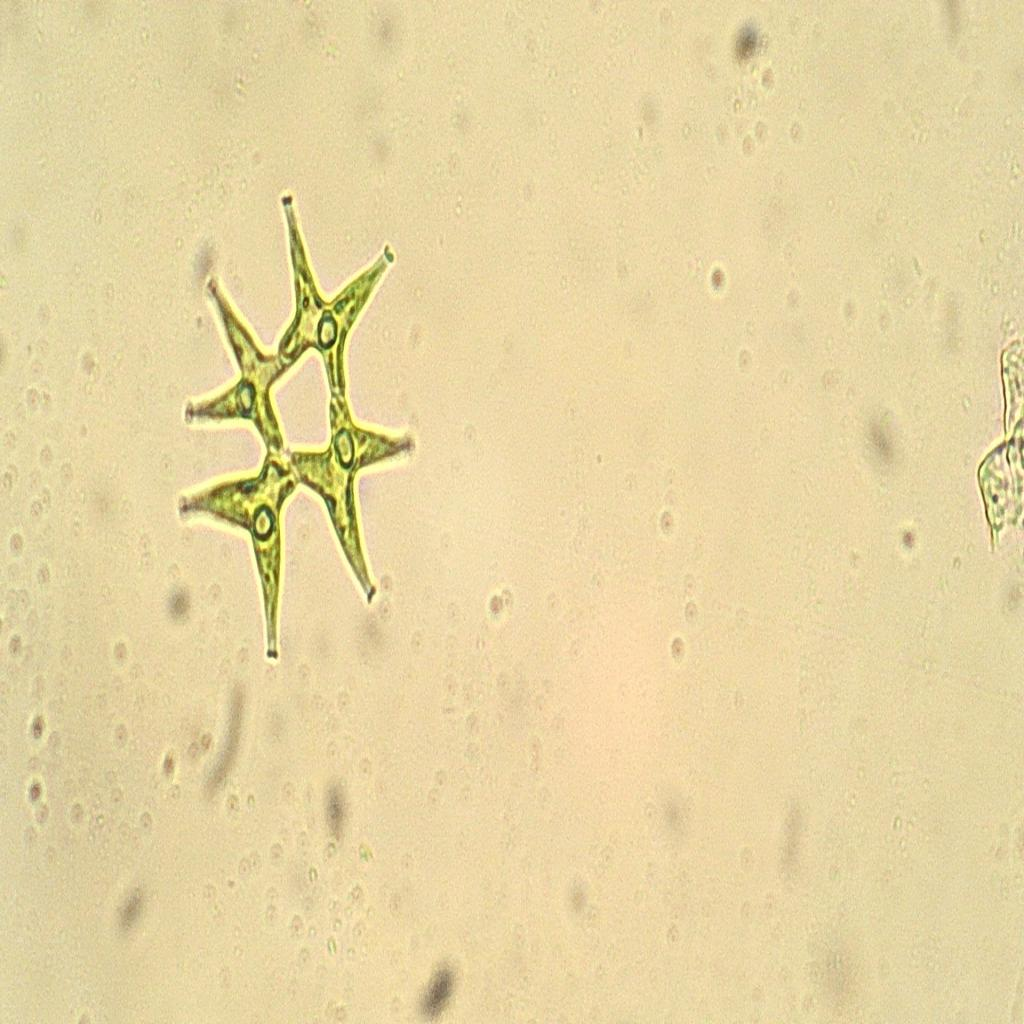Pediastrum_75FI: (162, 148, 422, 701)
